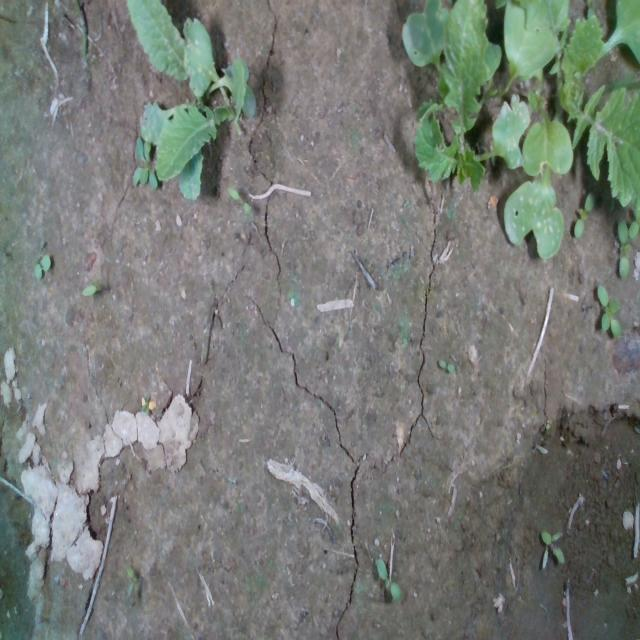weed: (596, 282, 621, 340), (375, 556, 403, 601), (539, 527, 565, 572), (573, 189, 595, 239), (224, 184, 252, 214), (123, 562, 141, 597), (32, 252, 52, 280), (80, 275, 102, 297)
